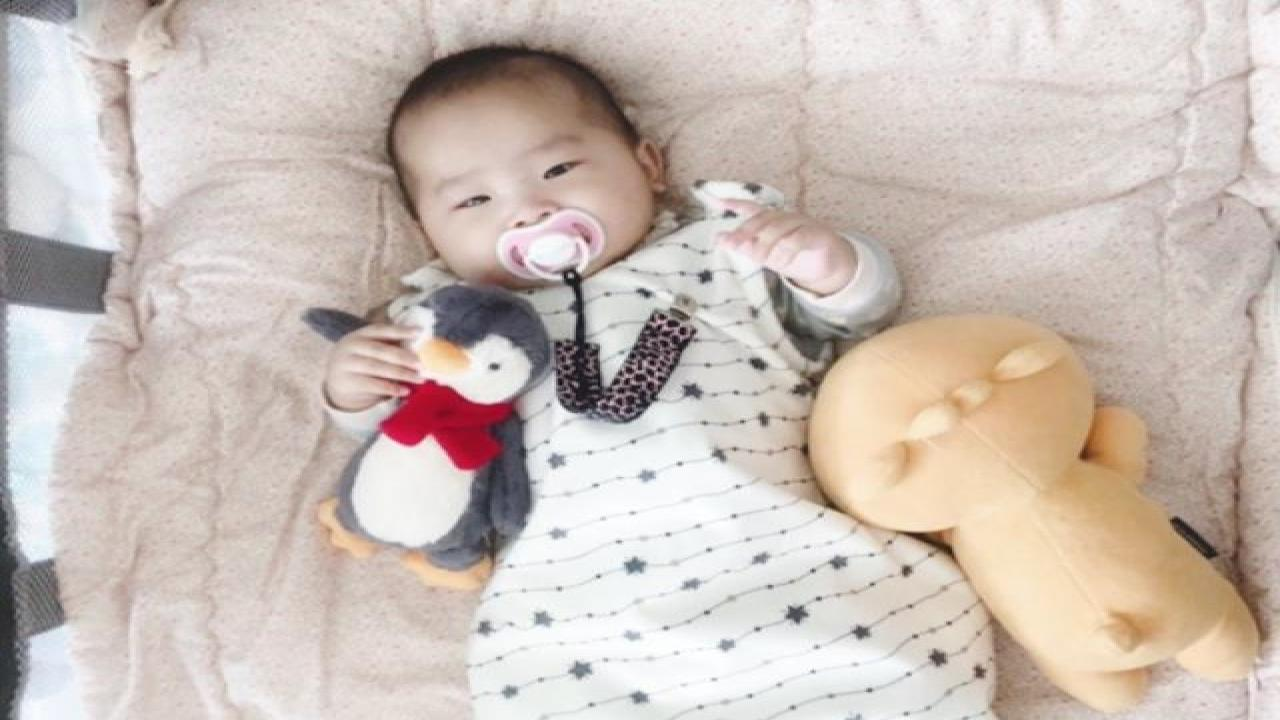hand: (702, 192, 848, 280), (328, 315, 427, 407)
